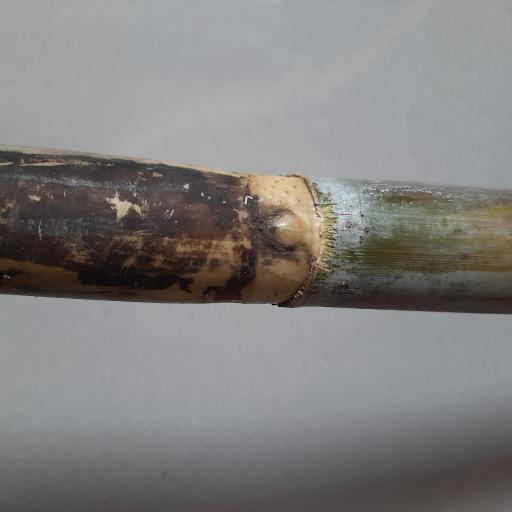Bud: (260, 209, 305, 253)
